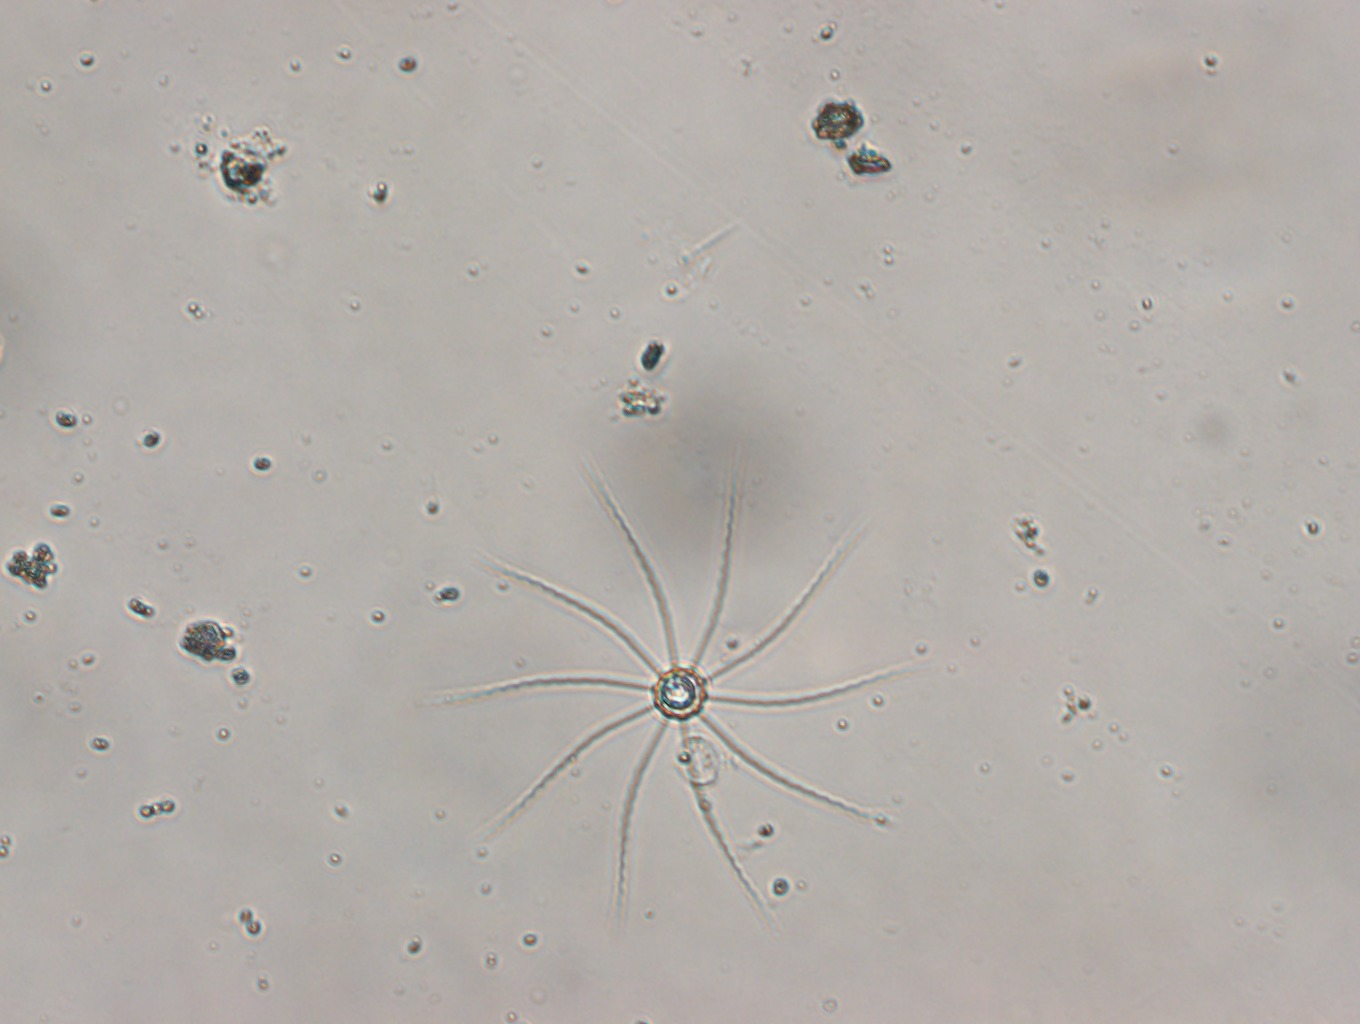bacteriastrum: (439, 458, 906, 929)
